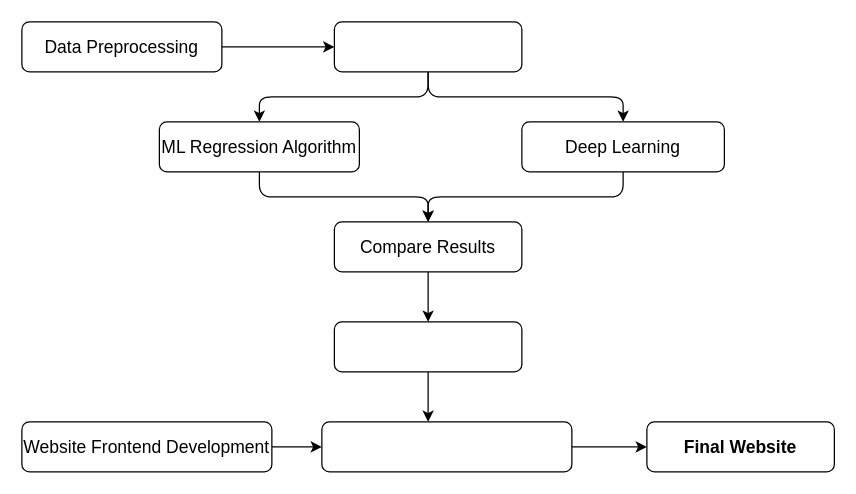
The diagram is 856 pixels wide and 494 high, and some of its shapes have lost their labels. Here are the shapes that lost their labels. From the top down, the centre of each, then its label:
At pixel 427 46: "Train the Model".
At pixel 427 346: "Find the Best Model".
At pixel 446 446: "Website Backend Development".
